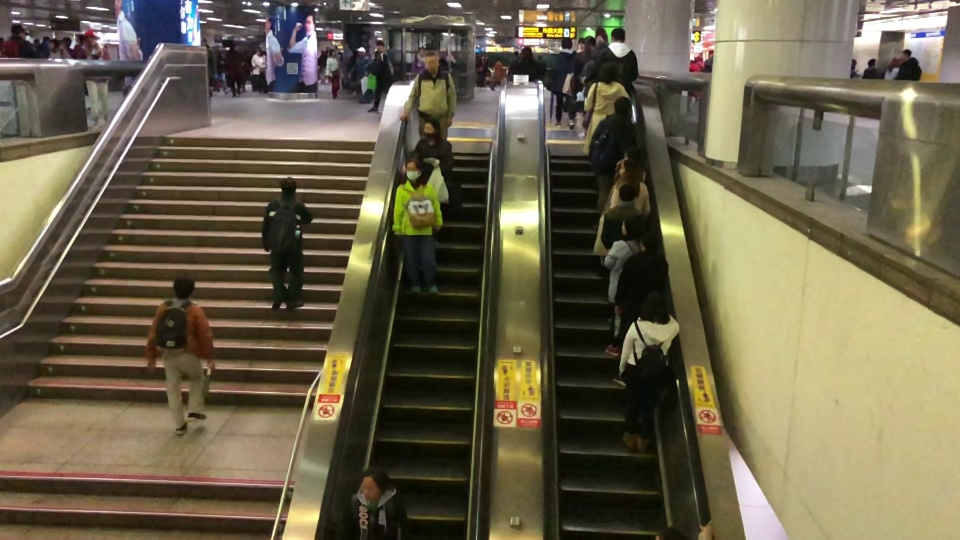person_head: (640, 290, 670, 324), (360, 466, 387, 499), (172, 274, 195, 301), (619, 215, 644, 239), (619, 158, 643, 182), (639, 231, 662, 254), (655, 525, 690, 540), (597, 61, 619, 84), (404, 157, 423, 182), (612, 96, 632, 119), (422, 117, 441, 141), (422, 48, 440, 73), (618, 183, 636, 204), (621, 145, 642, 162), (591, 40, 607, 61), (9, 23, 28, 40), (280, 177, 297, 195), (610, 27, 627, 43), (583, 35, 596, 50), (86, 30, 98, 46), (520, 46, 533, 60), (559, 37, 572, 51), (48, 38, 60, 51), (374, 40, 385, 52), (74, 33, 84, 46), (61, 36, 71, 47), (356, 46, 366, 57), (889, 57, 899, 68), (901, 49, 911, 60), (228, 40, 236, 51), (201, 37, 208, 49), (867, 58, 876, 67), (693, 52, 701, 62), (328, 48, 336, 57), (256, 47, 263, 57), (42, 36, 50, 44), (33, 38, 40, 47), (418, 47, 424, 57), (707, 49, 713, 59), (214, 48, 221, 56), (242, 50, 248, 58), (513, 49, 519, 57), (851, 58, 856, 66), (479, 54, 485, 60), (537, 55, 542, 61), (320, 50, 325, 55)
person_vbox: (143, 274, 215, 439), (618, 290, 680, 454), (612, 231, 669, 388), (391, 157, 444, 297), (260, 177, 313, 312), (591, 96, 637, 231), (603, 215, 644, 357), (399, 48, 457, 142), (344, 466, 410, 540), (581, 61, 630, 157), (580, 27, 638, 97), (400, 117, 455, 187), (599, 183, 647, 250), (78, 30, 111, 126), (577, 41, 608, 137), (550, 37, 582, 130), (609, 158, 651, 216), (365, 39, 394, 114), (0, 23, 40, 58), (348, 46, 371, 104), (573, 35, 596, 91), (613, 145, 646, 184), (223, 40, 243, 97), (201, 37, 216, 104), (512, 46, 538, 82), (324, 48, 341, 99), (894, 49, 921, 80), (687, 52, 703, 104), (213, 48, 229, 95), (250, 47, 266, 93), (410, 47, 425, 78), (239, 50, 249, 92), (476, 54, 487, 92), (884, 57, 900, 80), (862, 57, 878, 79), (61, 35, 76, 58), (36, 36, 50, 59), (72, 33, 84, 59), (48, 38, 62, 57), (702, 49, 713, 73), (318, 49, 325, 84), (537, 54, 547, 74), (850, 57, 859, 78)
